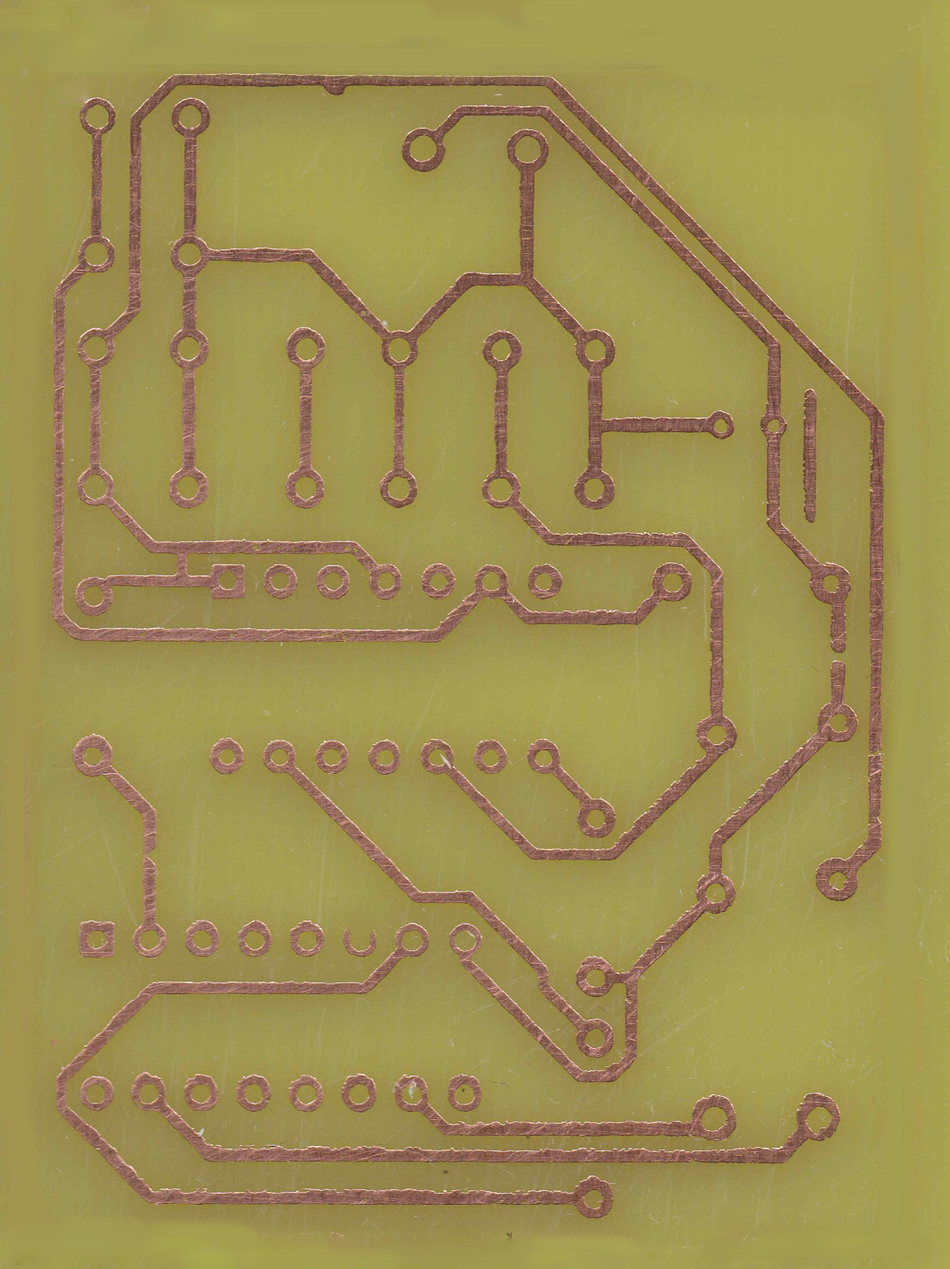missing_hole: (340, 924, 379, 963)
mouse_bite: (135, 835, 163, 868)
open_circuit: (825, 637, 851, 669)
short: (169, 534, 196, 594)
spur: (320, 69, 349, 102)
spurious_copper: (792, 384, 826, 528)
